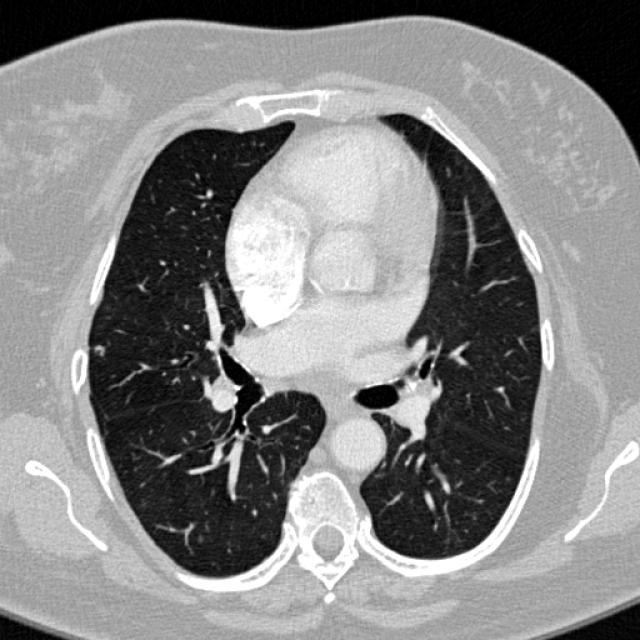nodule: (85, 335, 113, 363)
